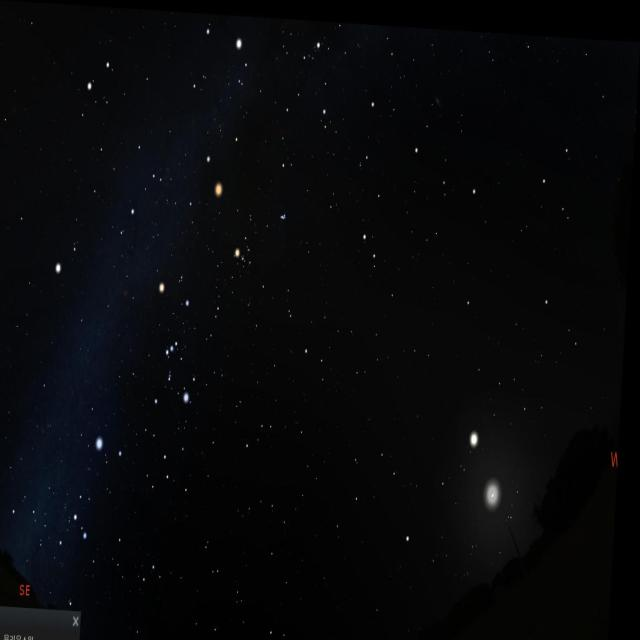canis_major: (71, 433, 130, 552)
canis_minor: (55, 236, 90, 286)
gemini: (73, 32, 174, 214)
moon: (482, 455, 516, 516)
orion: (143, 269, 195, 402)
pleiades: (280, 204, 295, 226)
taurus: (234, 183, 297, 288)
